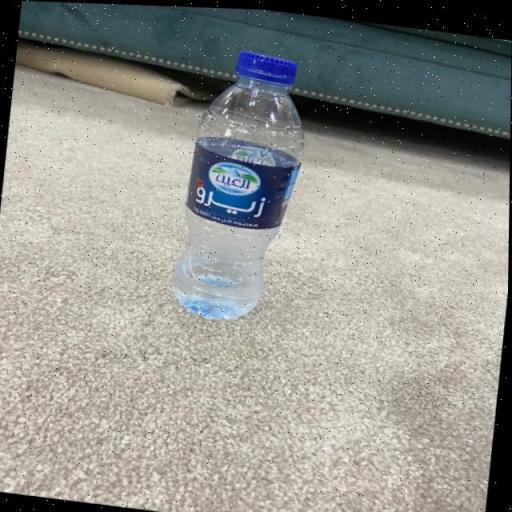plastic: (169, 39, 316, 331)
